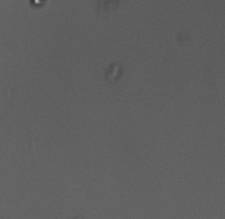Living Cell: (30, 1, 46, 8)
